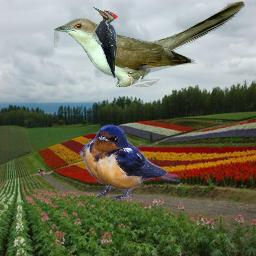Cuckoo: (54, 0, 245, 87)
Swallow: (79, 124, 180, 201)
Woodpecker: (91, 6, 119, 78)
